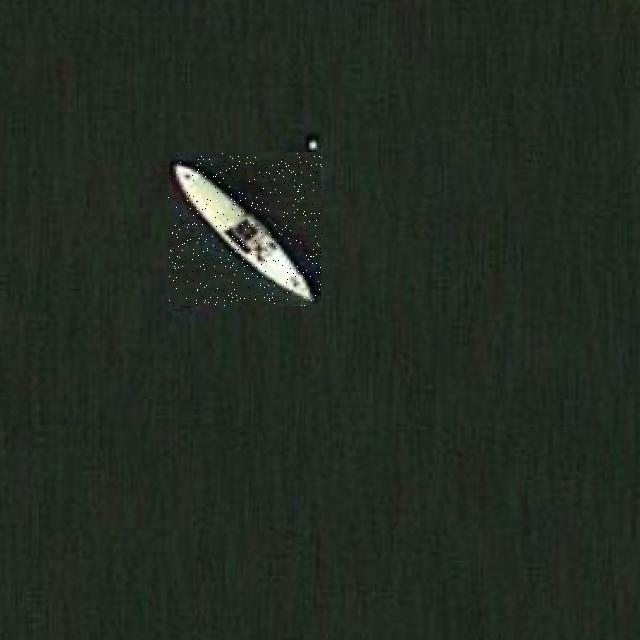boat: (168, 153, 322, 306)
